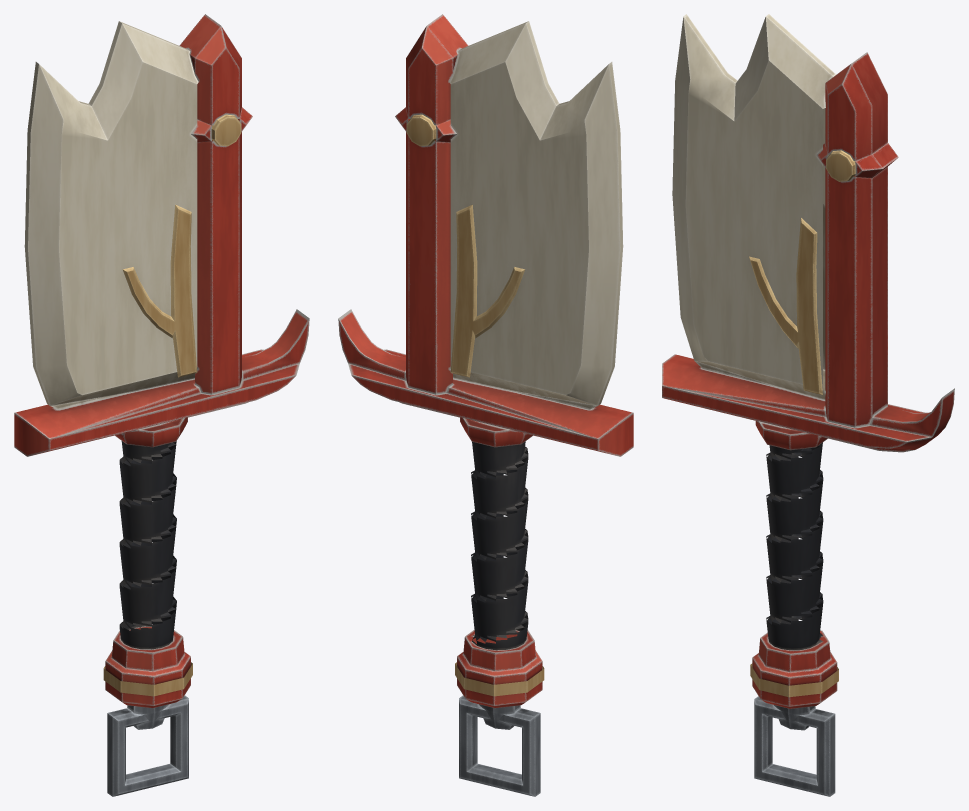
Rendered from Warlink_CleaverL.fbx.
The picture shows the model from 3 angles, left to right: view 1: azimuth 30°, elevation 25°; view 2: azimuth 150°, elevation 25°; view 3: azimuth 330°, elevation 25°; orthographic projection.
Visible parts, largest first — view 1: Warlink_CleaverL; view 2: Warlink_CleaverL; view 3: Warlink_CleaverL.
Part boxes in pixels (x1,y1,x2,y2): Warlink_CleaverL: (14,14,309,796); Warlink_CleaverL: (338,14,633,796); Warlink_CleaverL: (662,14,954,796).
Bounding box in the file's own units: 1.02 × 2.66 × 0.2605.
